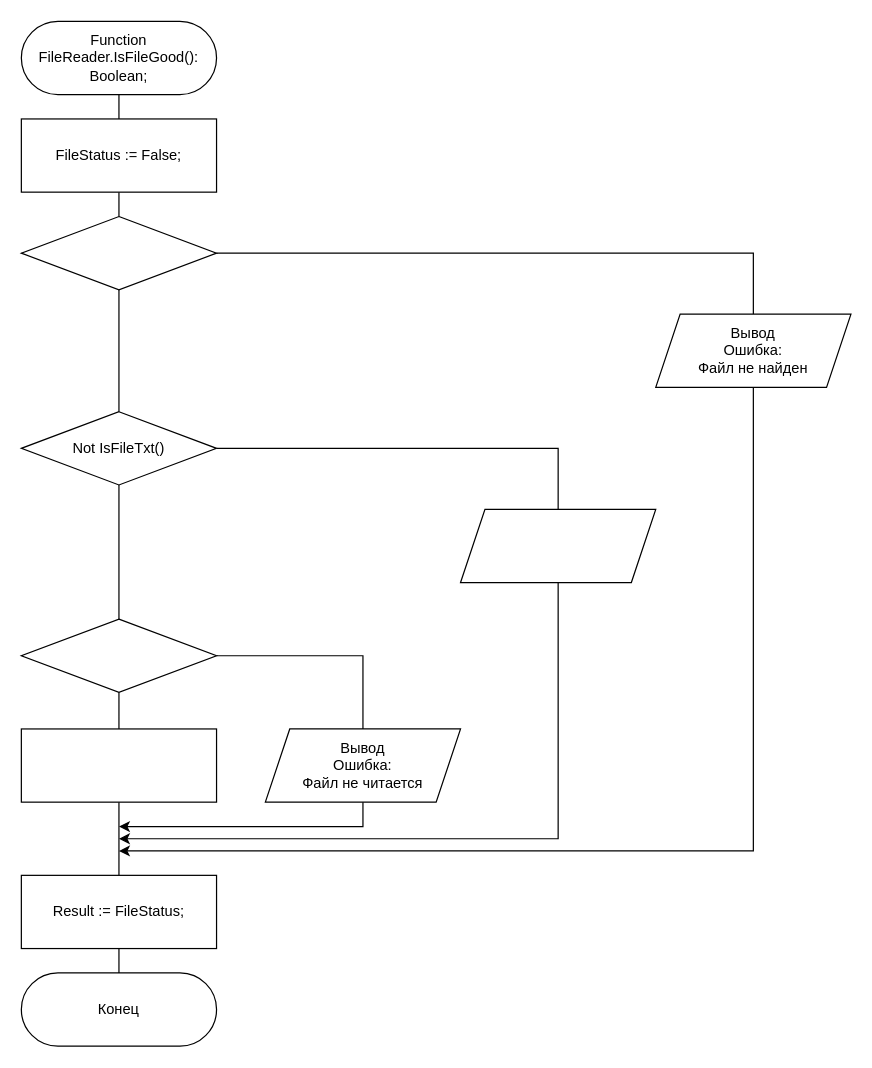
This 872x1068 diagram has some shape labels left out. Each missing label, with the centre of its shape:
FileStatus := True;: point 118,765
Not FileExists(FileName): point 118,252
Not IsFileReadable(): point 118,655
Вывод Ошибка: Файл не текстовый: point 557,545
